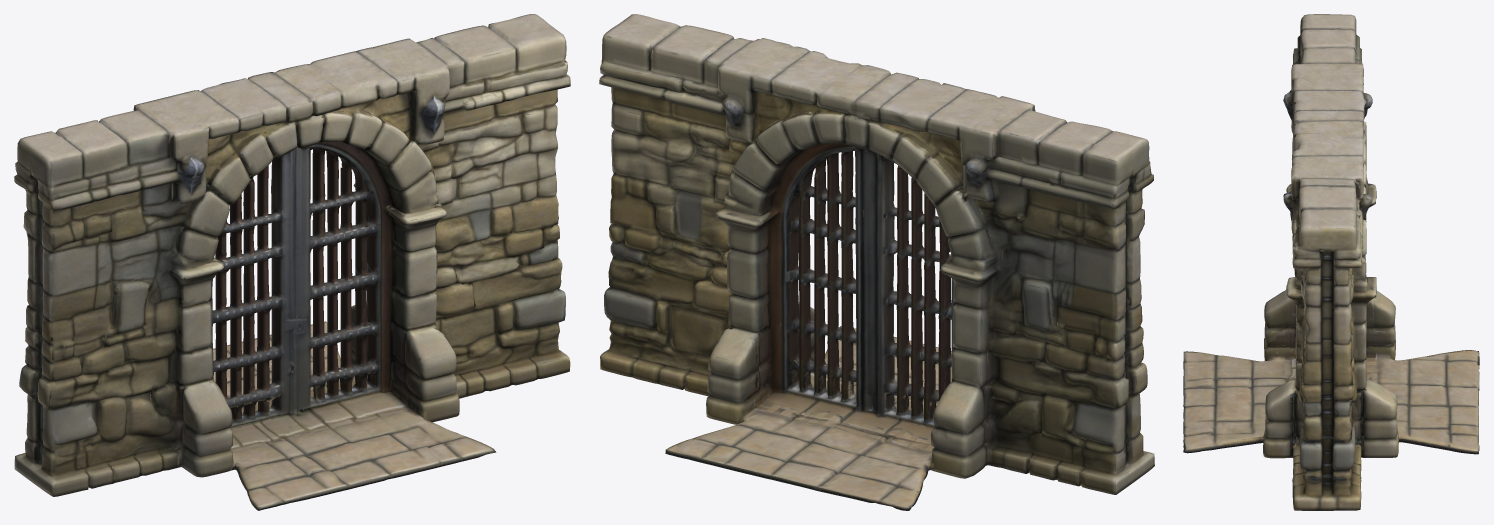
The model's file is o92_tas_cerceveli_demir_parmaklikli_kapi.glb.
3 renders of one model, left to right at view 1: azimuth 30°, elevation 25°; view 2: azimuth 150°, elevation 25°; view 3: azimuth 270°, elevation 25°, orthographic. The views are drawn at different scales.
Size of the model in its own units: 2 by 1.24 by 1.17.
Materials: 1 (1 with a texture image).
